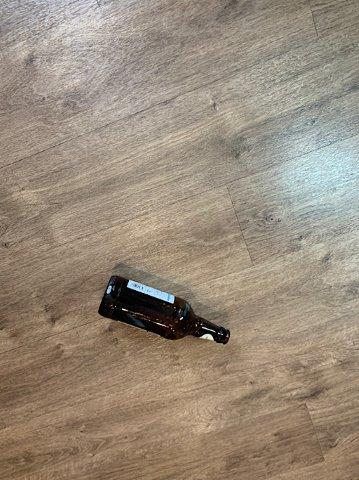botolkaca: (98, 274, 232, 345)
